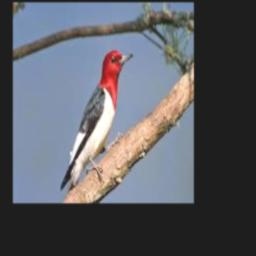Woodpecker: (60, 49, 133, 197)
